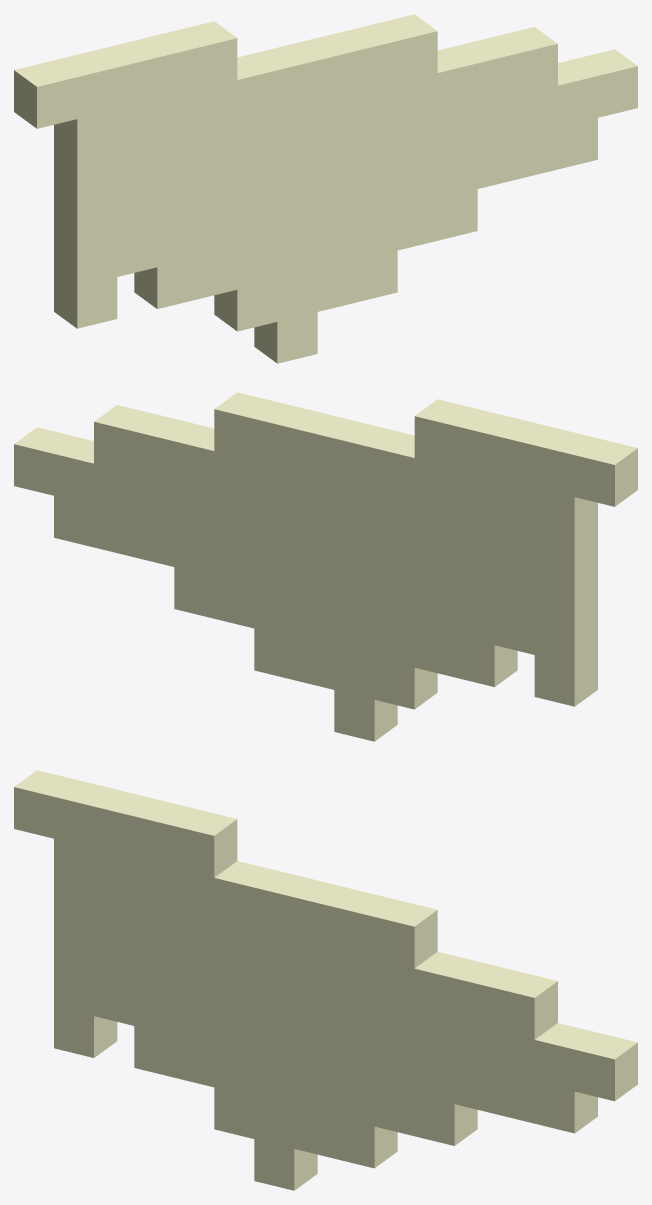
Rendered from Fight_748_2_13_fx.obj.
The picture shows the model from 3 angles, top to bottom: view 1: azimuth 30°, elevation 25°; view 2: azimuth 150°, elevation 25°; view 3: azimuth 330°, elevation 25°; orthographic projection.
Bounding box in the file's own units: 1.5 × 0.8 × 0.1.
1 material, 1 textured.
